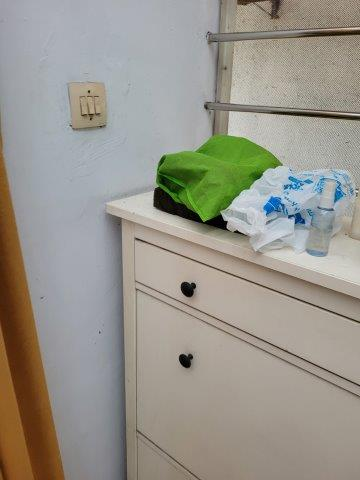plastik: (227, 166, 357, 254)
